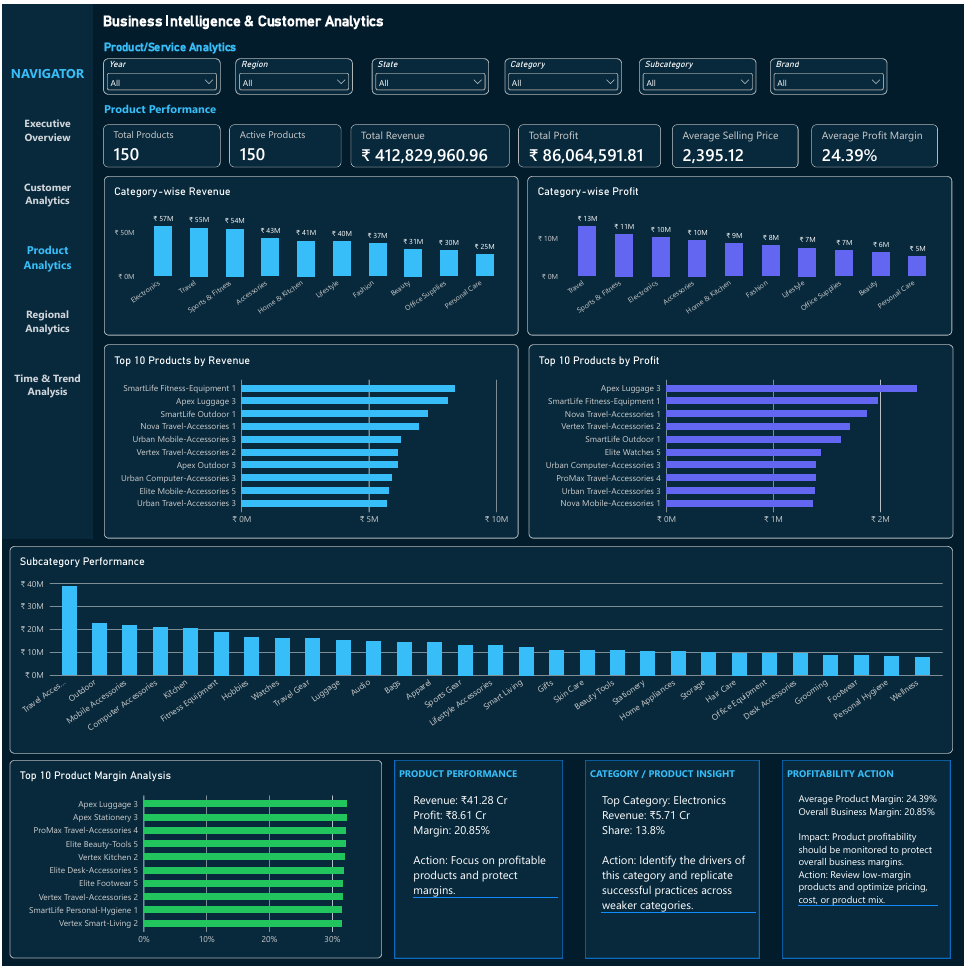

The dashboard page shown, as its layout file describes it:
{"tool":"powerbi","page":{"name":"Product Analytics","canvas":[1600,1600],"ordinal":2},"visuals":[{"type":"shape","box":[0,0,150,888.6],"z":0},{"type":"pageNavigator","box":[0,160,150,524],"z":1000},{"type":"textbox","box":[168,14,632,62],"z":2000},{"type":"textbox","box":[168.9,58.9,315.6,30],"z":3000},{"type":"slicer","fields":{"Values":["dim_date.Year"]},"box":[168,90,195,60],"z":5000},{"type":"slicer","fields":{"Values":["dim_geography.Region"]},"box":[388,90,195,60],"z":6000},{"type":"slicer","fields":{"Values":["dim_geography.State"]},"box":[615,90,195,60],"z":7000},{"type":"slicer","fields":{"Values":["dim_product.Category"]},"box":[836,90,195,60],"z":8000},{"type":"slicer","fields":{"Values":["dim_product.Subcategory"]},"box":[1060,90,195,60],"z":9000},{"type":"slicer","fields":{"Values":["dim_product.Brand"]},"box":[1277.5,90,195,60],"z":10000},{"type":"textbox","box":[169.1,160,195.5,35.5],"z":11000},{"type":"cardVisual","fields":{"Data":["dim_product.Total Products"]},"box":[167.5,200,195,71.2],"z":12000},{"type":"cardVisual","fields":{"Data":["dim_product.Active Products"]},"box":[377.5,200,186.2,71.2],"z":13000},{"type":"cardVisual","fields":{"Data":["fact_transaction.Total Revenue"]},"box":[580,200,263.8,71.2],"z":14000},{"type":"cardVisual","fields":{"Data":["fact_transaction.Total Profit"]},"box":[858.8,200,237.5,71.2],"z":15000},{"type":"cardVisual","fields":{"Data":["dim_product.Average Selling Price"]},"box":[1115,200,210,71.8],"z":16000},{"type":"cardVisual","fields":{"Data":["dim_product.Average Profit Margin"]},"box":[1347.1,200,210,71.2],"z":17000},{"type":"clusteredColumnChart","title":"Category-wise Revenue","fields":{"Category":["dim_product.Category"],"Y":["fact_transaction.Total Revenue"]},"box":[168.6,285.7,690,265.7],"z":18000},{"type":"clusteredColumnChart","title":"Category-wise Profit","fields":{"Category":["dim_product.Category"],"Y":["fact_transaction.Total Profit"]},"box":[874.3,285.7,707.1,265.7],"z":19000},{"type":"clusteredBarChart","title":"Top 10 Products by Revenue","fields":{"Category":["dim_product.Product_Name"],"Y":["fact_transaction.Total Revenue"]},"box":[168.6,565.7,690,322.9],"z":20000},{"type":"clusteredBarChart","title":"Top 10 Products by Profit","fields":{"Category":["dim_product.Product_Name"],"Y":["fact_transaction.Total Profit"]},"box":[875.7,565.7,707.1,322.9],"z":21000},{"type":"clusteredBarChart","title":"Top 10 Product Margin Analysis","fields":{"Category":["dim_product.Product_Name"],"Y":["dim_product.Average Profit Margin"]},"box":[11.7,1258.3,620,330],"z":22000},{"type":"clusteredColumnChart","box":[965.7,1778.6,150,360],"z":23000},{"type":"clusteredColumnChart","title":"Subcategory Performance","fields":{"Category":["dim_product.Subcategory"],"Y":["fact_transaction.Total Revenue"]},"box":[11.7,901.7,1570,345],"z":24000},{"type":"shape","box":[653.3,1258.3,280,330],"z":25000},{"type":"shape","box":[970,1258.3,290,330],"z":26000},{"type":"shape","box":[1298.3,1258.3,280,330],"z":27000},{"type":"textbox","box":[660,1268.8,265,31.2],"z":28000},{"type":"textbox","box":[977.5,1268.8,265,31.2],"z":29000},{"type":"textbox","box":[1306.2,1268.8,265,31.2],"z":30000},{"type":"textbox","box":[683.8,1311.2,241.2,191.2],"z":31000},{"type":"textbox","box":[997.5,1311.2,257.5,255],"z":32000},{"type":"textbox","box":[1325,1311.2,232.5,241.2],"z":33000},{"type":"textbox","box":[6,100,138,60],"z":34000}]}

Visuals, with their boxes in screenshot pixels (x1, y1, x2, y2), scaled from the page's 1600x1600 canvas onto the 964x966 screenshot:
shape: x1=0 y1=0 x2=90 y2=536
pageNavigator: x1=0 y1=97 x2=90 y2=413
textbox: x1=101 y1=8 x2=482 y2=46
textbox: x1=102 y1=36 x2=292 y2=54
slicer - dim_date.Year: x1=101 y1=54 x2=219 y2=91
slicer - dim_geography.Region: x1=234 y1=54 x2=351 y2=91
slicer - dim_geography.State: x1=371 y1=54 x2=488 y2=91
slicer - dim_product.Category: x1=504 y1=54 x2=621 y2=91
slicer - dim_product.Subcategory: x1=639 y1=54 x2=756 y2=91
slicer - dim_product.Brand: x1=770 y1=54 x2=887 y2=91
textbox: x1=102 y1=97 x2=220 y2=118
cardVisual - dim_product.Total Products: x1=101 y1=121 x2=218 y2=164
cardVisual - dim_product.Active Products: x1=227 y1=121 x2=340 y2=164
cardVisual - fact_transaction.Total Revenue: x1=349 y1=121 x2=508 y2=164
cardVisual - fact_transaction.Total Profit: x1=517 y1=121 x2=661 y2=164
cardVisual - dim_product.Average Selling Price: x1=672 y1=121 x2=798 y2=164
cardVisual - dim_product.Average Profit Margin: x1=812 y1=121 x2=938 y2=164
"Category-wise Revenue" clusteredColumnChart: x1=102 y1=172 x2=517 y2=333
"Category-wise Profit" clusteredColumnChart: x1=527 y1=172 x2=953 y2=333
"Top 10 Products by Revenue" clusteredBarChart: x1=102 y1=342 x2=517 y2=536
"Top 10 Products by Profit" clusteredBarChart: x1=528 y1=342 x2=954 y2=536
"Top 10 Product Margin Analysis" clusteredBarChart: x1=7 y1=760 x2=381 y2=959
"Subcategory Performance" clusteredColumnChart: x1=7 y1=544 x2=953 y2=753
shape: x1=394 y1=760 x2=562 y2=959
shape: x1=584 y1=760 x2=759 y2=959
shape: x1=782 y1=760 x2=951 y2=959
textbox: x1=398 y1=766 x2=557 y2=785
textbox: x1=589 y1=766 x2=749 y2=785
textbox: x1=787 y1=766 x2=947 y2=785
textbox: x1=412 y1=792 x2=557 y2=907
textbox: x1=601 y1=792 x2=756 y2=946
textbox: x1=798 y1=792 x2=938 y2=937
textbox: x1=4 y1=60 x2=87 y2=97
